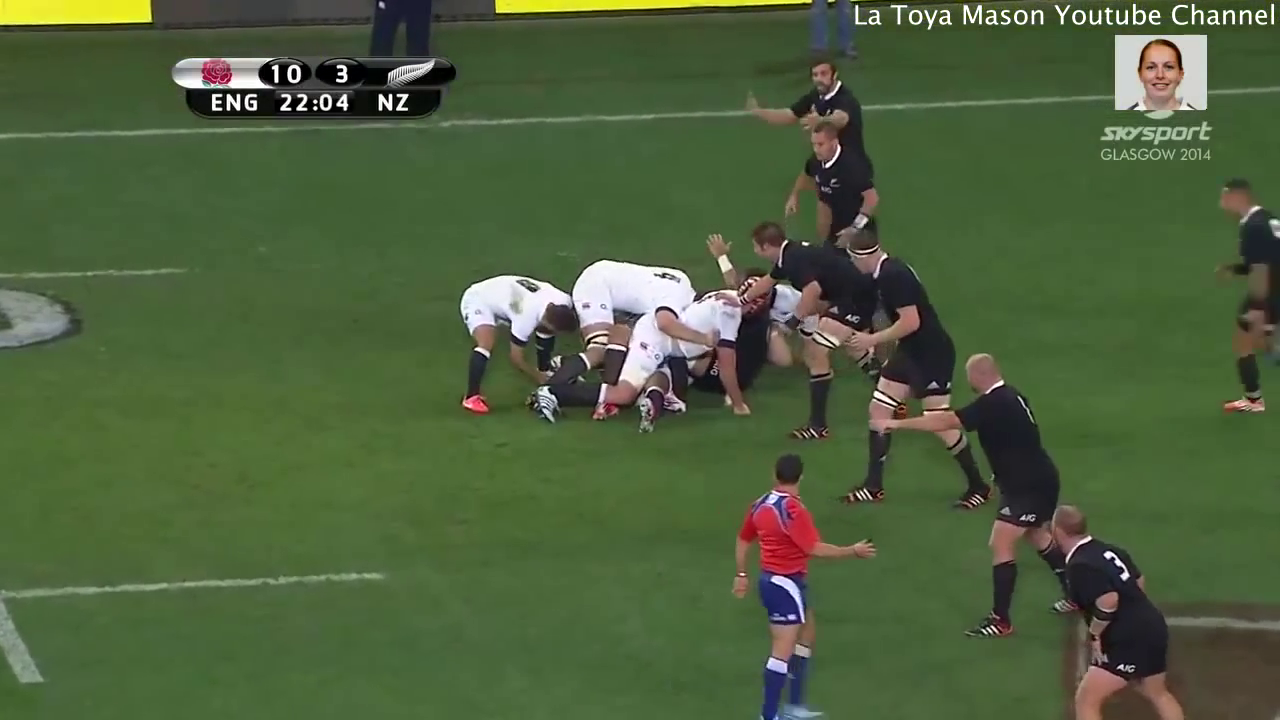player: (885, 350, 1062, 646), (833, 230, 994, 518), (732, 449, 886, 720), (1040, 503, 1187, 720), (534, 253, 704, 403), (745, 214, 859, 432), (453, 266, 579, 428), (1203, 173, 1280, 424), (597, 297, 744, 426), (781, 125, 892, 242), (730, 56, 867, 140)
ruck: (460, 232, 840, 448)
